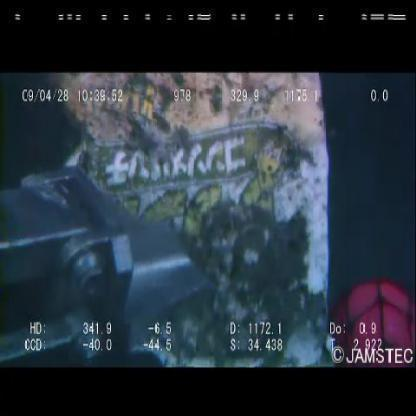Rác: (54, 73, 338, 371)
